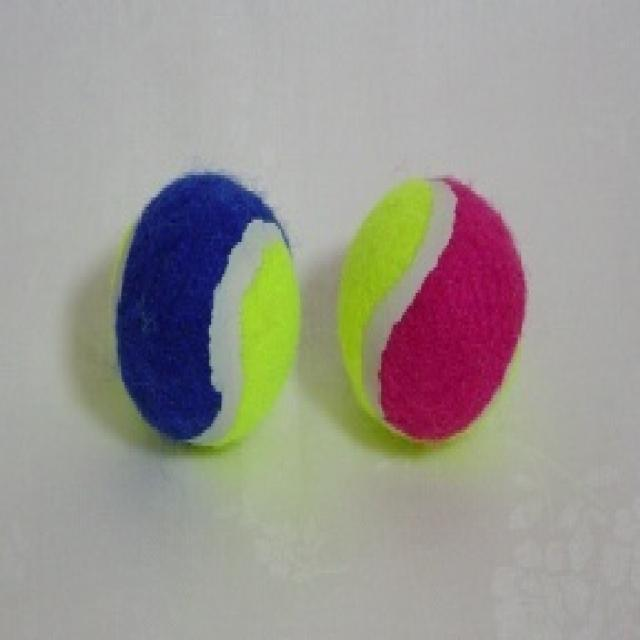Tennis Ball: (113, 175, 302, 455), (336, 175, 529, 449)
